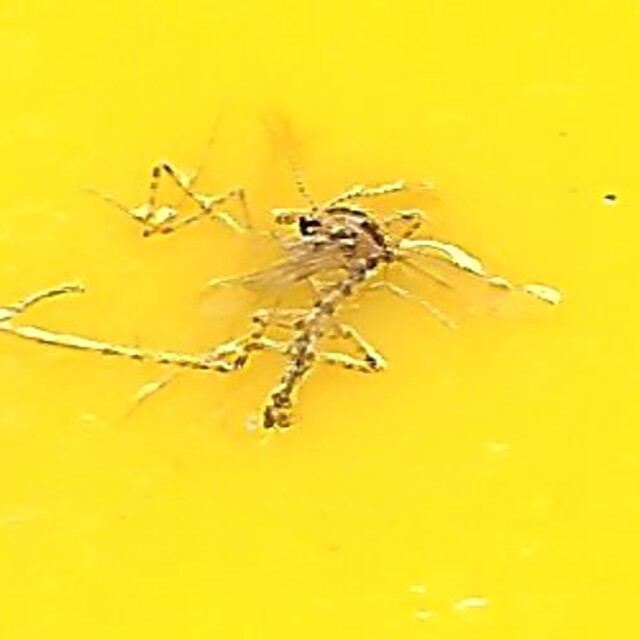Nematocera: (256, 201, 384, 439)
